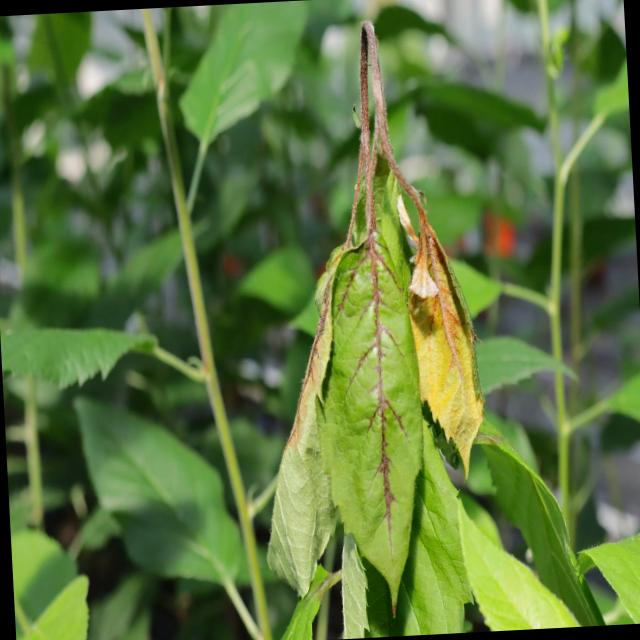-FireBlight-: (256, 13, 486, 621)
